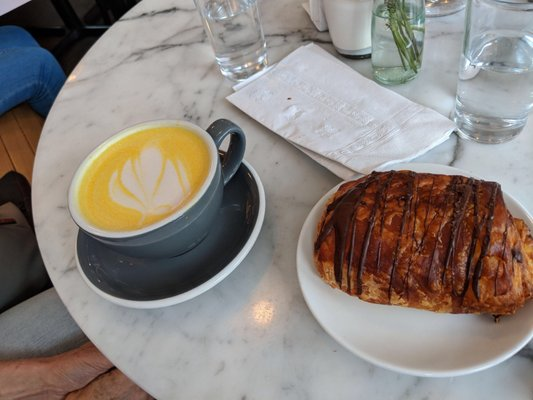pizza: (68, 119, 231, 260)
salad: (206, 118, 246, 185)
sushi: (296, 168, 533, 377), (67, 119, 228, 258)
